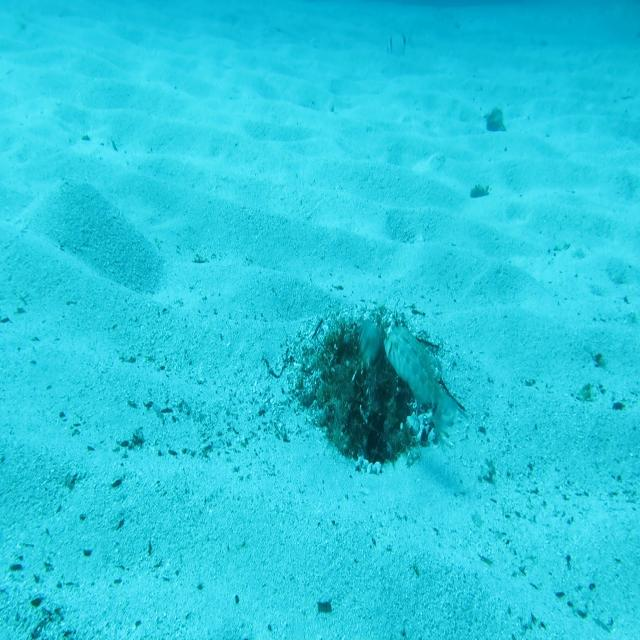LF: (383, 324, 458, 452)
core_nest: (348, 325, 392, 365)
female: (356, 316, 380, 378)
nest: (283, 298, 452, 481)
other_fish: (384, 26, 416, 60)
vegetation: (481, 105, 507, 134), (469, 182, 489, 202), (316, 598, 334, 618)
